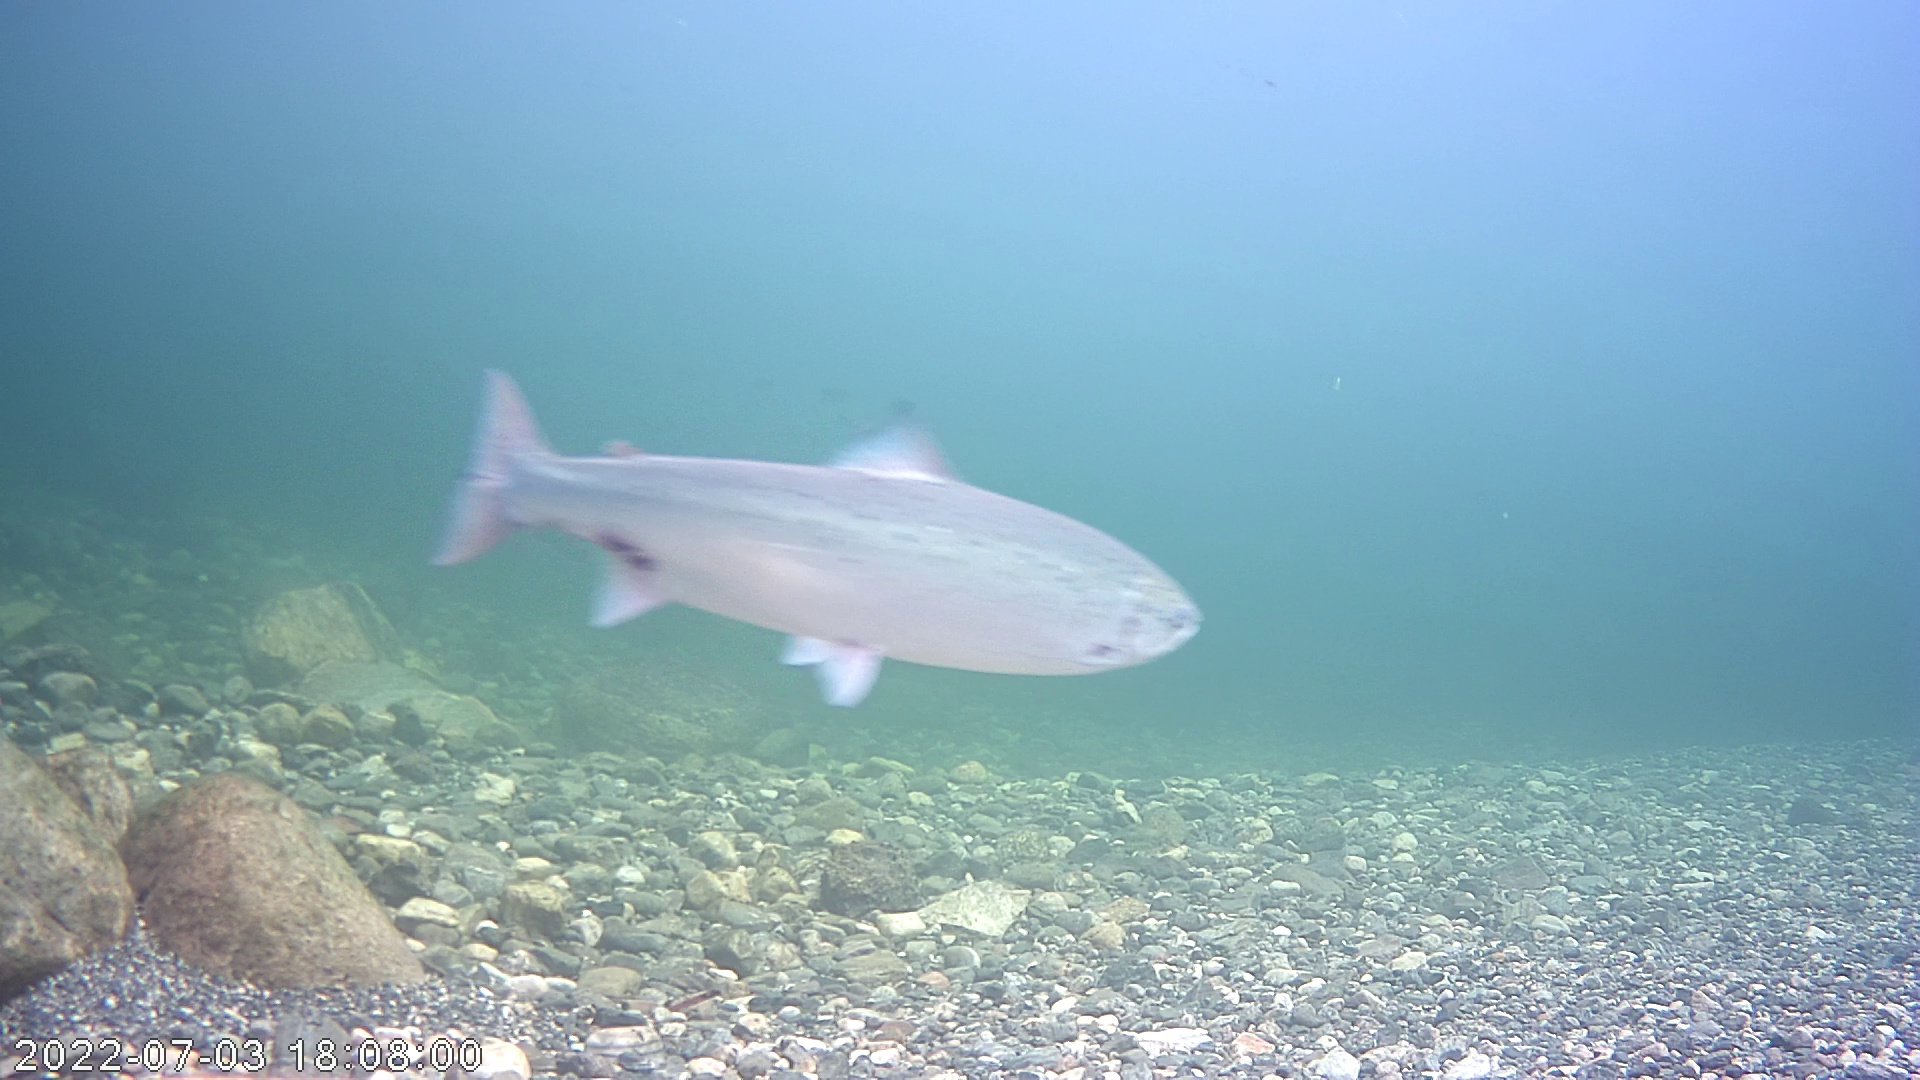salmon: (426, 364, 1208, 708)
